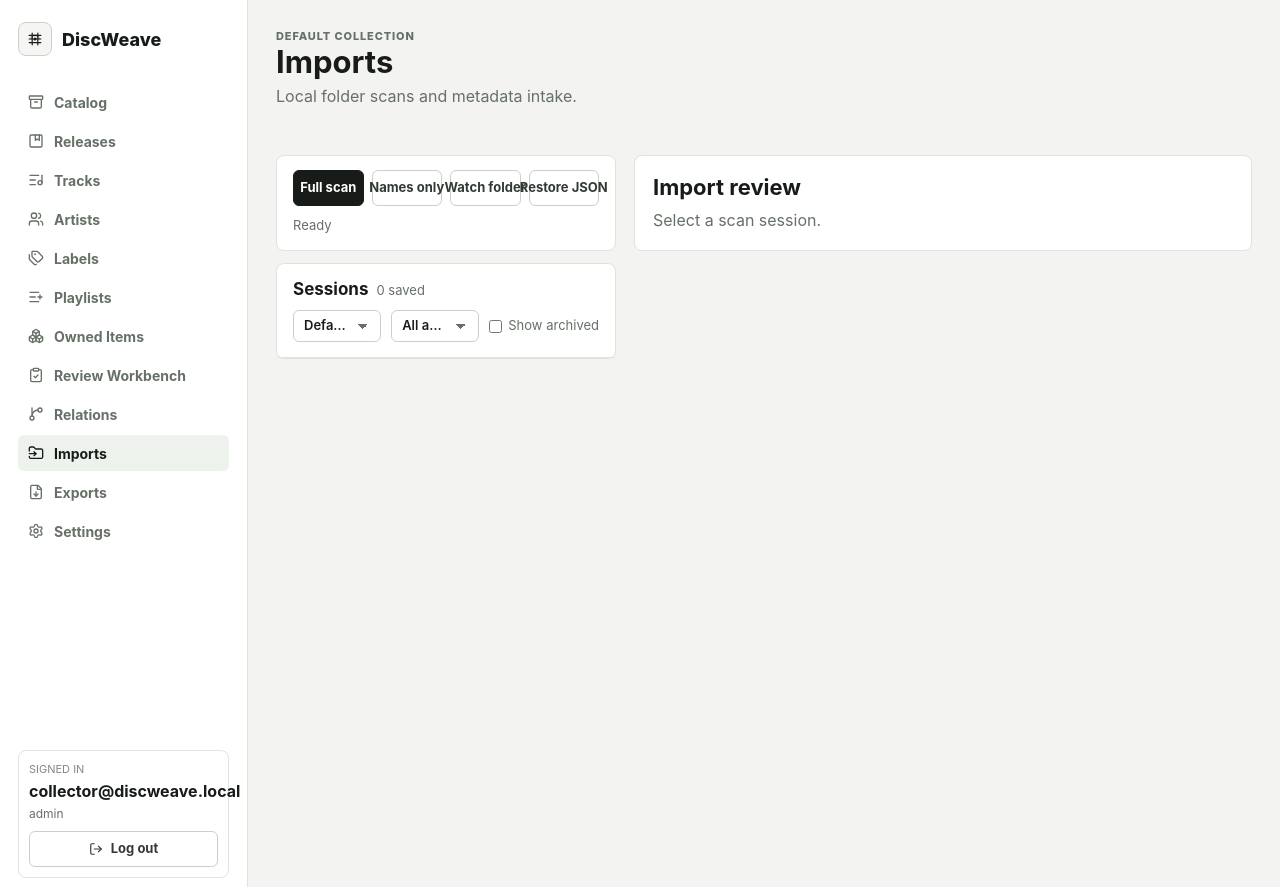
Test case: App desktop imports › starts a names-only desktop scan for cloud folders
Click the button "Names only": (407, 188) 372,170 -> 442,206
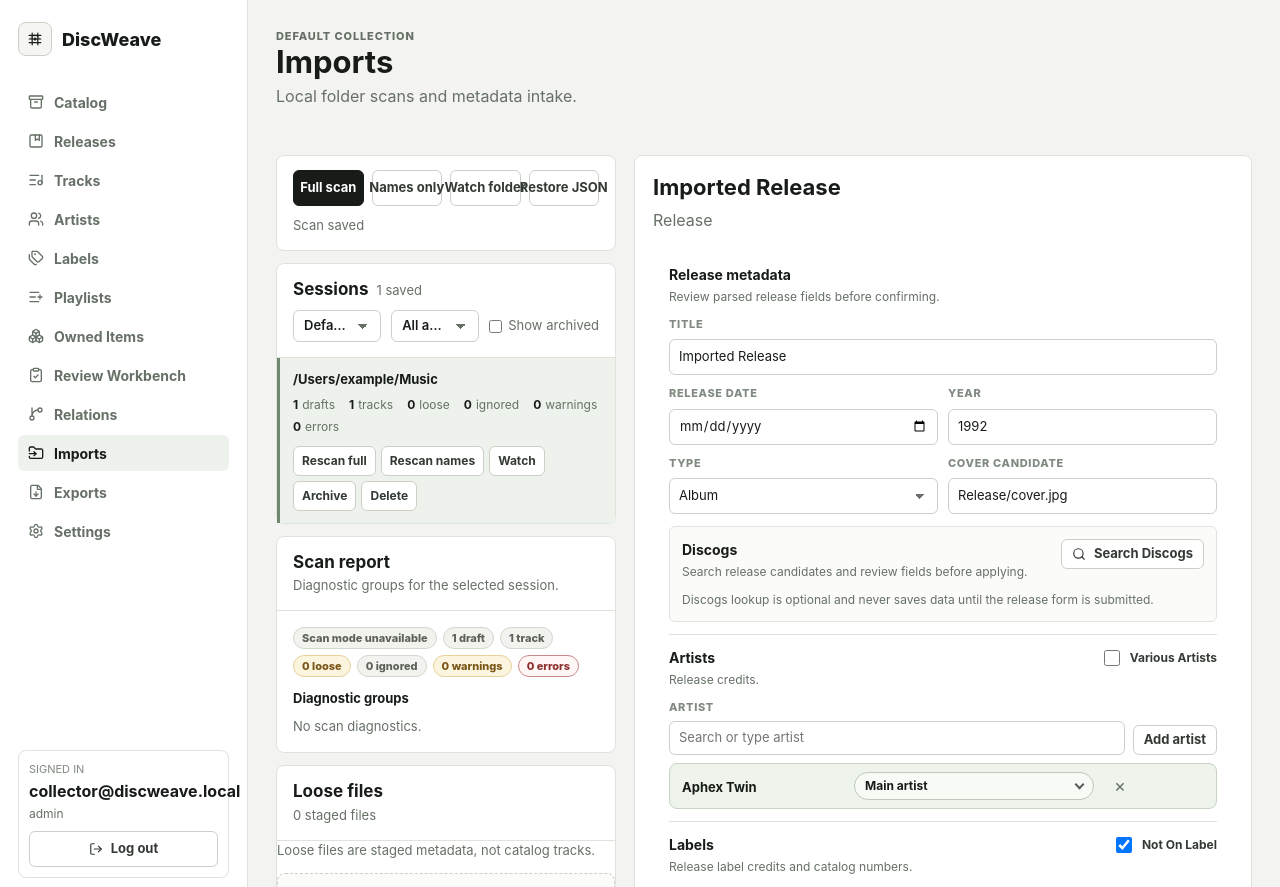
Now the text "Scan saved" is shown, box 293,217 -> 364,233
